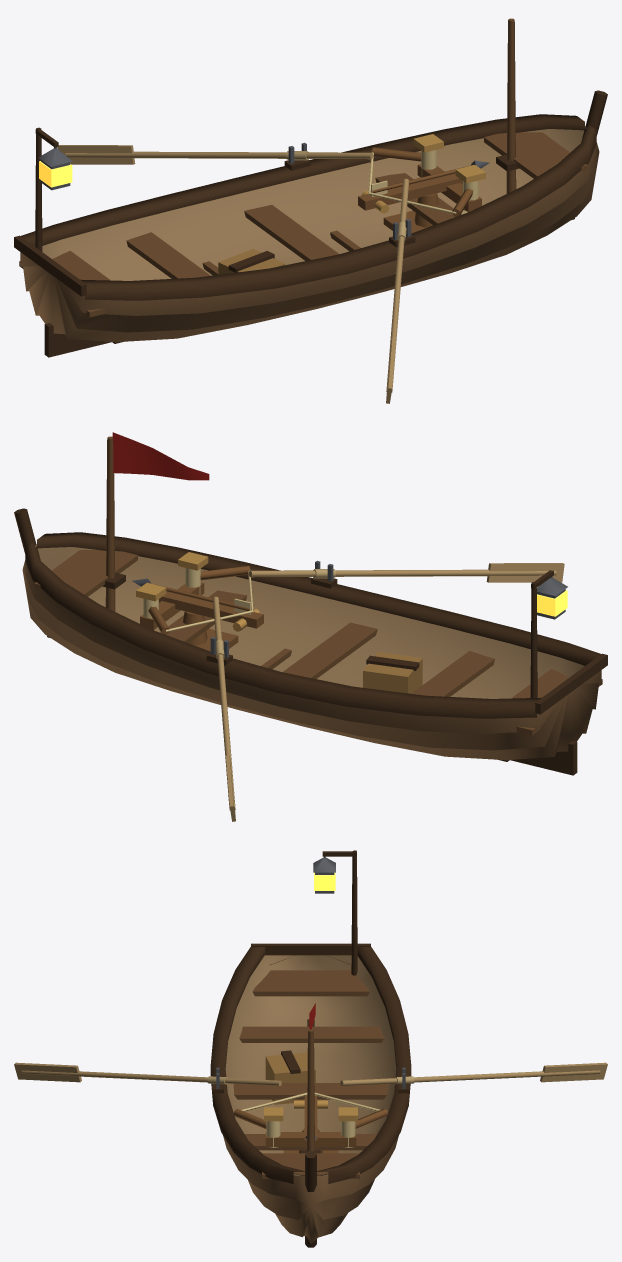
The model's file is rowboat-1-bolt-thrower.glb.
The picture shows the model from 3 angles, top to bottom: view 1: azimuth 30°, elevation 25°; view 2: azimuth 150°, elevation 25°; view 3: azimuth 270°, elevation 25°; orthographic projection. The views are drawn at different scales.
Visible parts, largest first — view 1: Mesh_Interior, Mesh_Hull, Mesh_GunwaleTrimS, Mesh_GunwaleTrimP, Mesh_Thwart1, Mesh_Breasthook, Mesh_OarShaftL, Mesh_Thwart0, Mesh_MastStub, Mesh_BallistaStock_0, Mesh_TransomTrim, Mesh_OarBladeL (+9 smaller); view 2: Mesh_Hull, Mesh_Interior, Mesh_GunwaleTrimP, Mesh_GunwaleTrimS, Mesh_Flag_Pennant, Mesh_Thwart1, Mesh_Breasthook, Mesh_OarShaftR, Mesh_Thwart0, Mesh_Crate, Mesh_MastStub, Mesh_BallistaStock_0 (+10 smaller); view 3: Mesh_Interior, Mesh_Hull, Mesh_GunwaleTrimS, Mesh_GunwaleTrimP, Mesh_SternSheets, Mesh_Thwart0, Mesh_Thwart1, Mesh_OarShaftR, Mesh_OarShaftL, Mesh_TransomTrim, Mesh_Crate, Mesh_Breasthook (+7 smaller).
Part boxes in pixels (bbox=[...]): Mesh_Interior: bbox=[42, 126, 586, 280]; Mesh_Hull: bbox=[20, 142, 599, 342]; Mesh_GunwaleTrimS: bbox=[80, 124, 596, 300]; Mesh_GunwaleTrimP: bbox=[21, 114, 584, 246]; Mesh_Thwart1: bbox=[244, 205, 339, 260]; Mesh_Breasthook: bbox=[484, 132, 587, 178]; Mesh_OarShaftL: bbox=[65, 151, 373, 159]; Mesh_Thwart0: bbox=[126, 232, 210, 278]; Mesh_MastStub: bbox=[506, 18, 516, 193]; Mesh_BallistaStock_0: bbox=[358, 173, 462, 210]; Mesh_TransomTrim: bbox=[14, 235, 87, 296]; Mesh_OarBladeL: bbox=[57, 145, 135, 164]; Mesh_Hull: bbox=[22, 560, 601, 760]; Mesh_Interior: bbox=[35, 544, 584, 698]; Mesh_GunwaleTrimP: bbox=[25, 542, 541, 718]; Mesh_GunwaleTrimS: bbox=[37, 532, 600, 665]; Mesh_Flag_Pennant: bbox=[112, 432, 209, 480]; Mesh_Thwart1: bbox=[282, 622, 377, 678]; Mesh_Breasthook: bbox=[34, 550, 137, 596]; Mesh_OarShaftR: bbox=[248, 569, 556, 577]; Mesh_Thwart0: bbox=[411, 651, 494, 696]; Mesh_Crate: bbox=[363, 652, 422, 693]; Mesh_MastStub: bbox=[105, 436, 115, 611]; Mesh_BallistaStock_0: bbox=[159, 591, 263, 628]; Mesh_Interior: bbox=[225, 955, 396, 1175]; Mesh_Hull: bbox=[223, 955, 398, 1243]; Mesh_GunwaleTrimS: bbox=[210, 947, 304, 1183]; Mesh_GunwaleTrimP: bbox=[317, 947, 411, 1183]; Mesh_SternSheets: bbox=[252, 970, 369, 996]; Mesh_Thwart0: bbox=[239, 1026, 383, 1042]; Mesh_Thwart1: bbox=[233, 1083, 388, 1099]; Mesh_OarShaftR: bbox=[21, 1070, 281, 1085]; Mesh_OarShaftL: bbox=[340, 1070, 600, 1085]; Mesh_TransomTrim: bbox=[251, 943, 370, 955]; Mesh_Crate: bbox=[265, 1052, 315, 1104]; Mesh_Breasthook: bbox=[262, 1153, 359, 1178].
Bounding box in the file's own units: 5.72 × 2.26 × 5.9.
